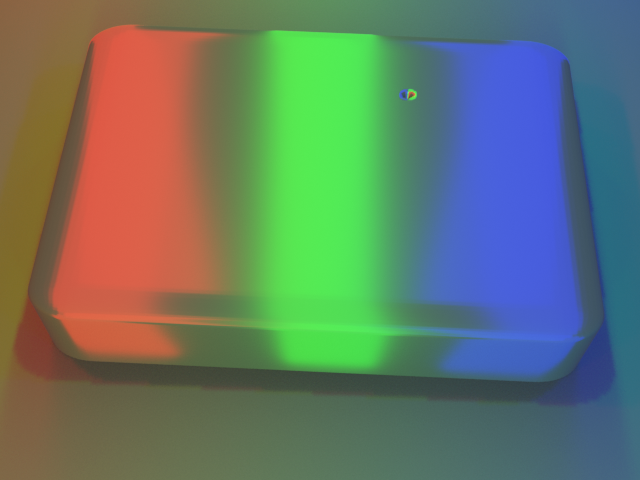dent: (396, 63, 436, 103)
